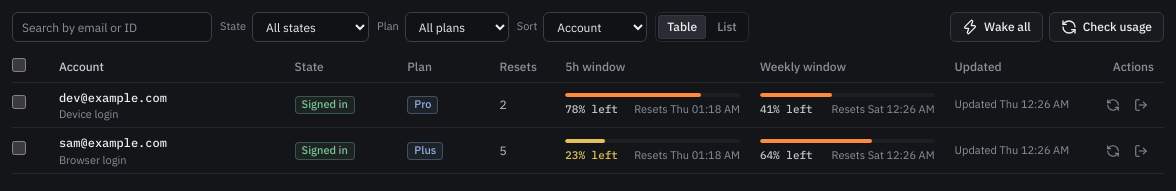
it: CodexAccountsPane › searches by account id, not just email
Step 1. Type "acct-2" into the search field named "Search accounts" → (112, 27), box [12,12,212,42]
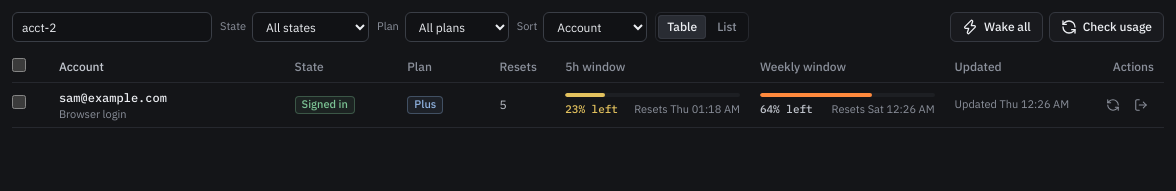
Check: the text "sam@example.com" is shown, box [59,90,167,104]
Check: the text "dev@example.com" is gone
